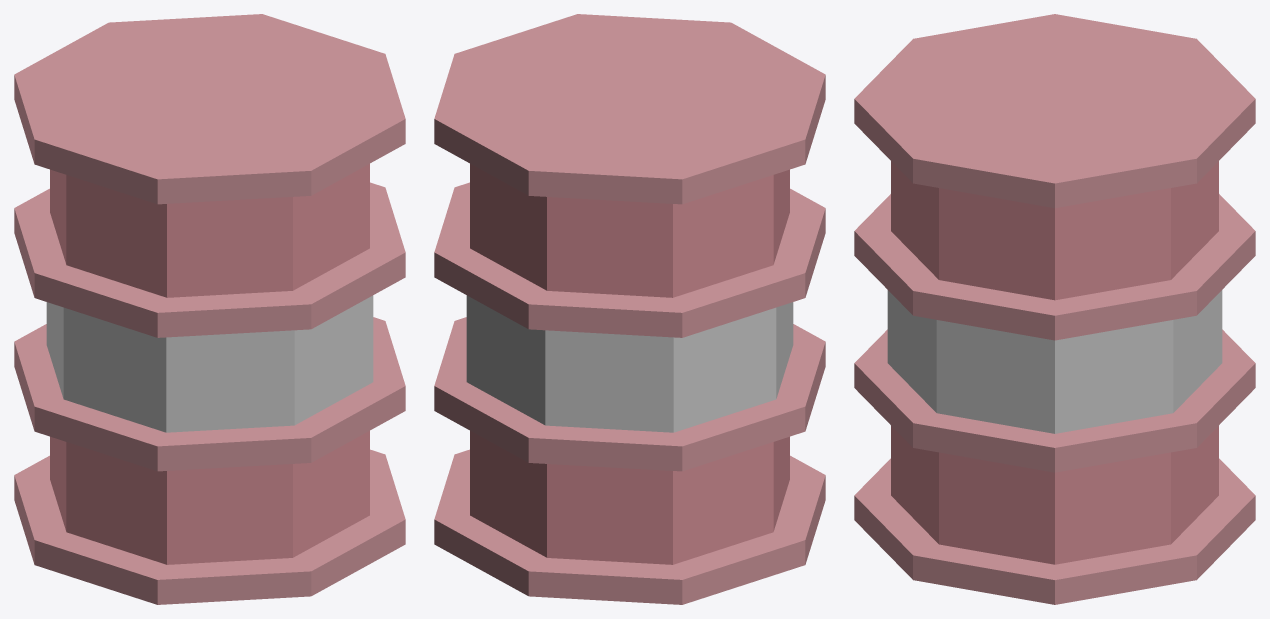
Rendered from Barrel.fbx.
3 renders of one model, left to right at view 1: azimuth 30°, elevation 25°; view 2: azimuth 150°, elevation 25°; view 3: azimuth 270°, elevation 25°, orthographic.
Visible parts, largest first — view 1: Barrel; view 2: Barrel; view 3: Barrel.
Part boxes in pixels (x1=…): Barrel: x1=14, y1=14, x2=405, y2=604; Barrel: x1=434, y1=14, x2=825, y2=604; Barrel: x1=854, y1=14, x2=1255, y2=604.
Size of the model in its own units: 0.5896 by 0.5896 by 0.6834.
